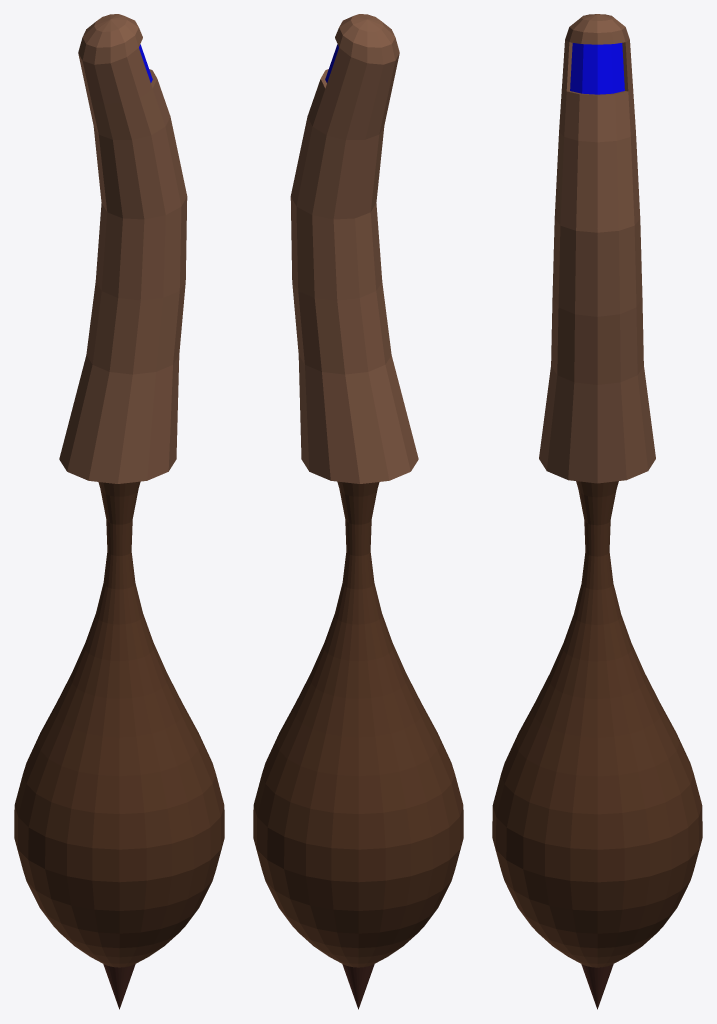
The model's file is Wand 942.glb.
The picture shows the model from 3 angles, left to right: view 1: azimuth 30°, elevation 25°; view 2: azimuth 150°, elevation 25°; view 3: azimuth 270°, elevation 25°; orthographic projection.
Parts seen in each view (by area): view 1: GeneratedWand; view 2: GeneratedWand; view 3: GeneratedWand.
Part boxes in pixels (x1,y1,x2,y2): GeneratedWand: (14,14,224,1009); GeneratedWand: (253,14,463,1009); GeneratedWand: (492,14,702,1009).
Bounding box in the file's own units: 0.1026 × 0.5337 × 0.1026.
